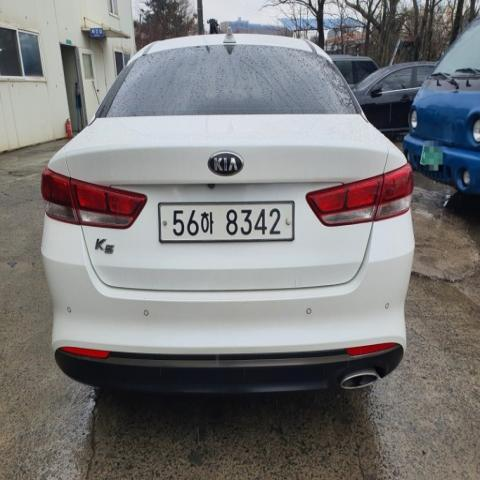LP: (152, 190, 298, 251)
